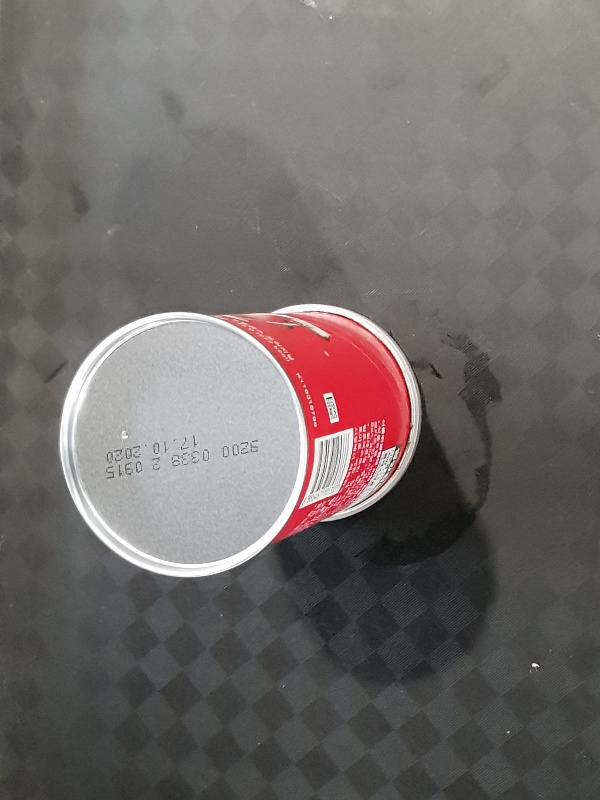Pringles Original: (55, 302, 420, 579)
